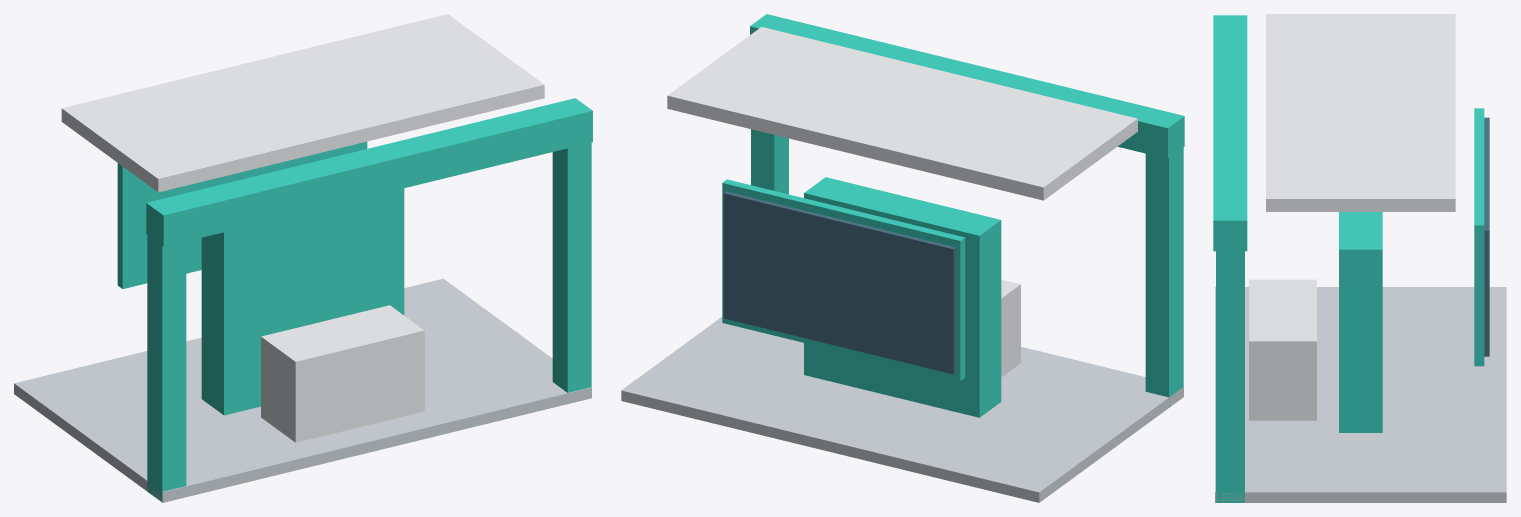
3 views of the same model, side by side, from view 1: azimuth 30°, elevation 25°; view 2: azimuth 150°, elevation 25°; view 3: azimuth 270°, elevation 25° (orthographic). The views are drawn at different scales.
Visible parts, largest first — view 1: Exhibition Booth Concept; view 2: Exhibition Booth Concept; view 3: Exhibition Booth Concept.
Boxes of the visible parts, box(x1,y1,x2,y2) form: Exhibition Booth Concept: box(14, 14, 592, 502); Exhibition Booth Concept: box(621, 14, 1184, 502); Exhibition Booth Concept: box(1213, 14, 1506, 502).
Bounding box in the file's own units: 5 × 3.34 × 3.01.
